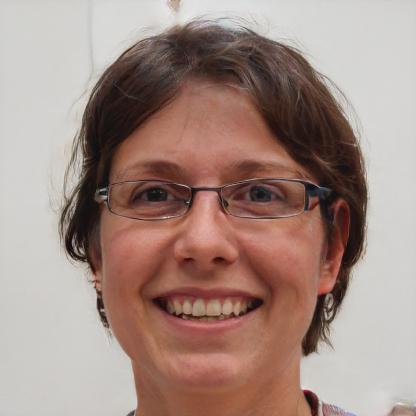glasses: (94, 173, 326, 231)
